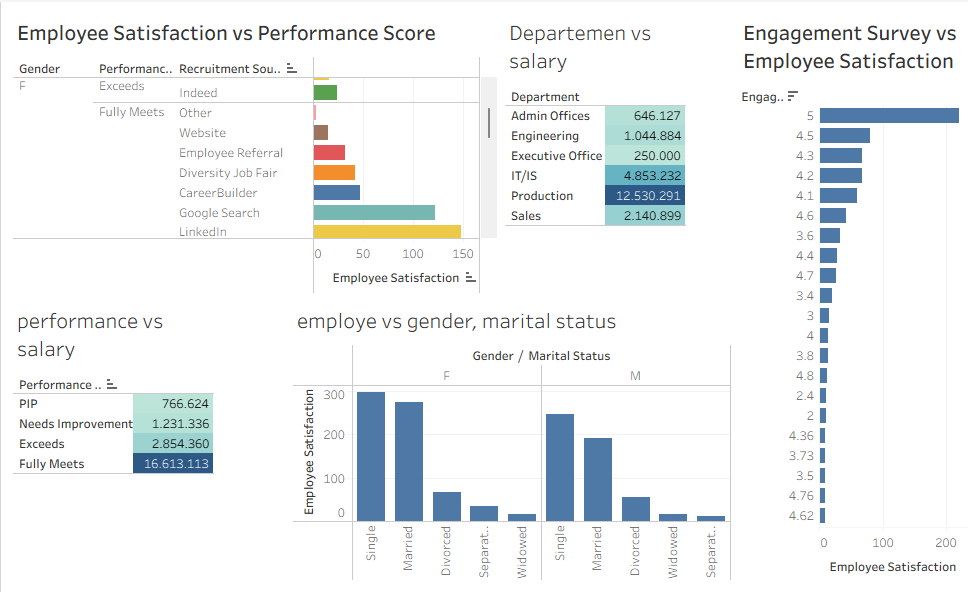

The page's visual inventory and layout, read from the dashboard file:
{"tool":"tableau","page":{"name":"Dashboard 1","canvas":[1000,1000],"units":"permille","ordinal":0},"visuals":[{"type":"worksheet","title":"1. Employee Satisfaction vs Performance Score","mark":"Automatic","rows":["Gender","PerformanceScore","RecruitmentSource"],"cols":["EmployeeSatisfaction"],"box":[6.9,13.5,426,486.5]},{"type":"worksheet","title":"Departemen vs salary","mark":"Square","rows":["Department"],"box":[432.9,13.5,202.6,486.5]},{"type":"worksheet","title":"2. Engagement Survey vs Employee Satisfaction","mark":"Automatic","rows":["EngagementSurvey"],"cols":["EmployeeSatisfaction"],"box":[635.5,13.5,219,973]},{"type":"legend","title":"1. Employee Satisfaction vs Performance Score","param":"[federated.1ldf4p10cm3uyi10glkx11upjf85].[none:RecruitmentSource:nk]","box":[854.5,13.5,138.5,348]},{"type":"legend","title":"Departemen vs salary","param":"[federated.1ldf4p10cm3uyi10glkx11upjf85].[sum:Salary:qk]","box":[854.5,361.5,138.5,109.8]},{"type":"worksheet","title":"performance vs salary","mark":"Square","rows":["PerformanceScore"],"box":[6.9,500,242.4,486.5]},{"type":"worksheet","title":"Sheet 5","mark":"Automatic","rows":["EmployeeSatisfaction"],"cols":["Gender","MaritalStatus"],"box":[249.3,500,386.2,486.5]}]}

Visuals, with their boxes on the dashboard's canvas, which has no fixed pixel size, in thousandths of its width and height (x1, y1, x2, y2). These are canvas units, not pixel positions in the 968x592 screenshot, which may show the page scaled, cropped or inside an application window:
"1. Employee Satisfaction vs Performance Score" worksheet: 7,14,433,500
"Departemen vs salary" worksheet (Square marks): 433,14,636,500
"2. Engagement Survey vs Employee Satisfaction" worksheet: 636,14,854,986
"1. Employee Satisfaction vs Performance Score" legend: 854,14,993,362
"Departemen vs salary" legend: 854,362,993,471
"performance vs salary" worksheet (Square marks): 7,500,249,986
"Sheet 5" worksheet: 249,500,636,986
